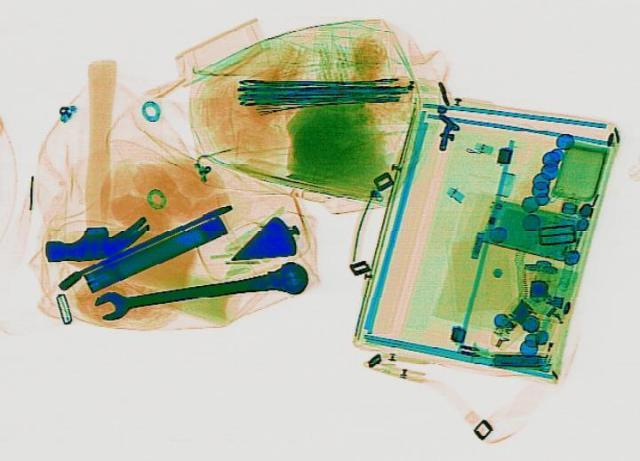Wrench: (90, 258, 312, 322)
